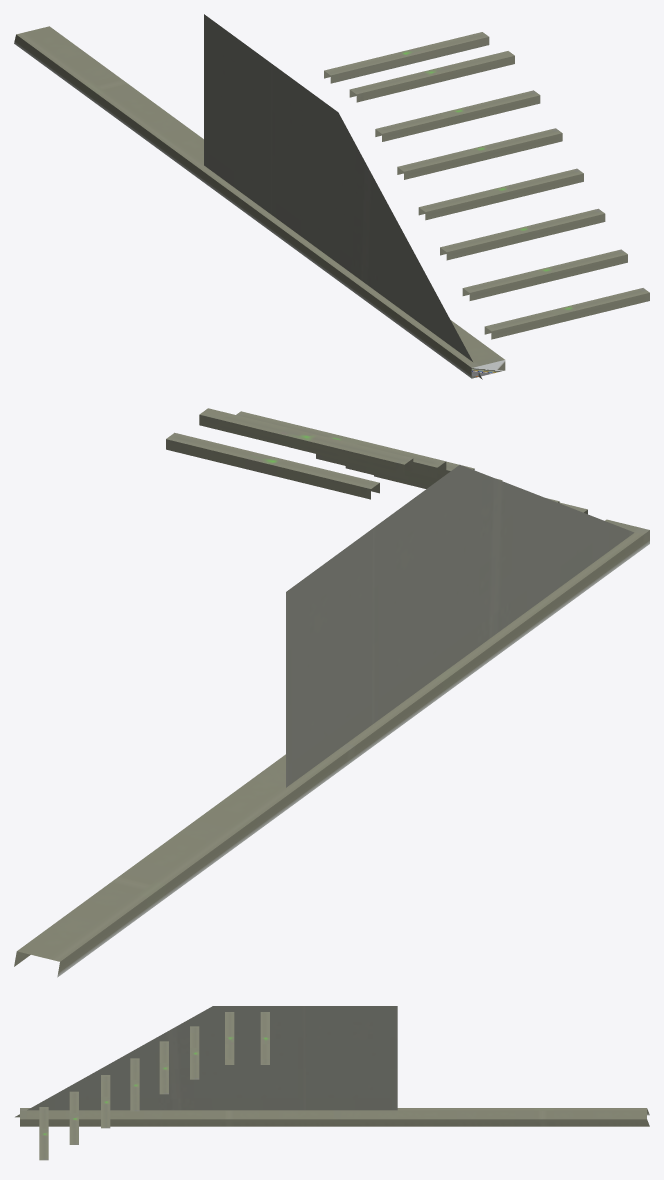
Rendered from pref_sm_city_riverwall02b_snow_lv3.fbx.
3 renders of one model, top to bottom at view 1: azimuth 30°, elevation 25°; view 2: azimuth 150°, elevation 25°; view 3: azimuth 270°, elevation 25°, orthographic. The views are drawn at different scales.
Visible parts, largest first — view 1: pref_sm_city_riverwall02b_snow_lv3; view 2: pref_sm_city_riverwall02b_snow_lv3; view 3: pref_sm_city_riverwall02b_snow_lv3.
Part boxes in pixels (bbox=[...]): pref_sm_city_riverwall02b_snow_lv3: bbox=[14, 14, 649, 379]; pref_sm_city_riverwall02b_snow_lv3: bbox=[14, 408, 649, 977]; pref_sm_city_riverwall02b_snow_lv3: bbox=[15, 1006, 649, 1160].
Size of the model in its own units: 2.94 by 2.44 by 12.25.
